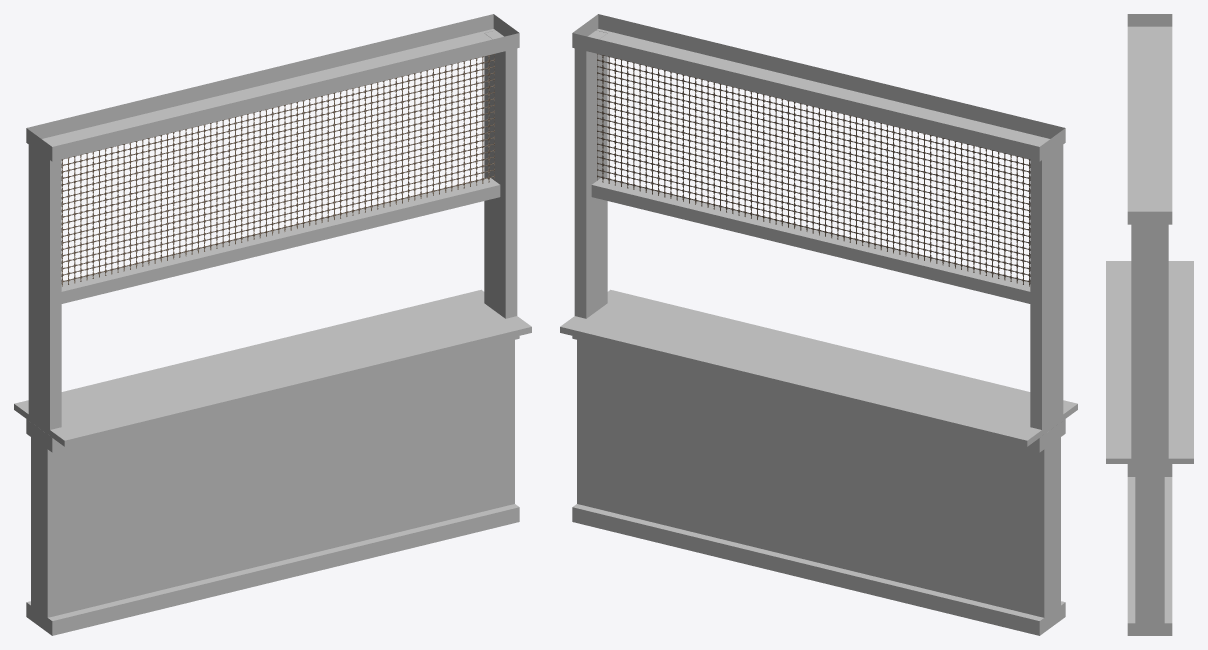
File: factory_office_02.DAE
3 views of the same model, side by side, from view 1: azimuth 30°, elevation 25°; view 2: azimuth 150°, elevation 25°; view 3: azimuth 270°, elevation 25° (orthographic). The views are drawn at different scales.
Visible parts, largest first — view 1: Box337, Plane001; view 2: Box337, Plane001; view 3: Box337.
Part boxes in pixels (x1,y1,x2,y2): Box337: (14,14,531,635); Plane001: (61,54,494,286); Box337: (560,14,1077,635); Plane001: (597,54,1030,286); Box337: (1106,14,1193,635).
Bounding box in the file's own units: 4 × 4 × 0.75.
